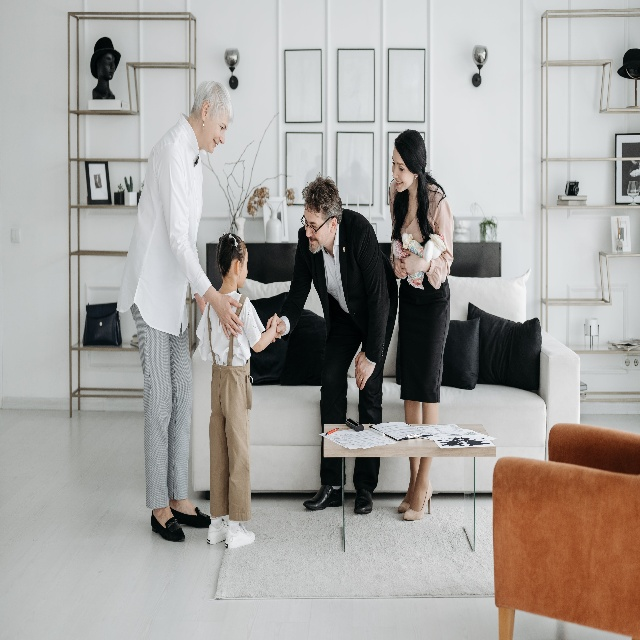Gafas: (300, 213, 319, 235)
Sin_guantes: (217, 290, 243, 342), (354, 351, 374, 389), (401, 251, 426, 275), (266, 315, 286, 342), (393, 259, 407, 278), (271, 312, 279, 338)
